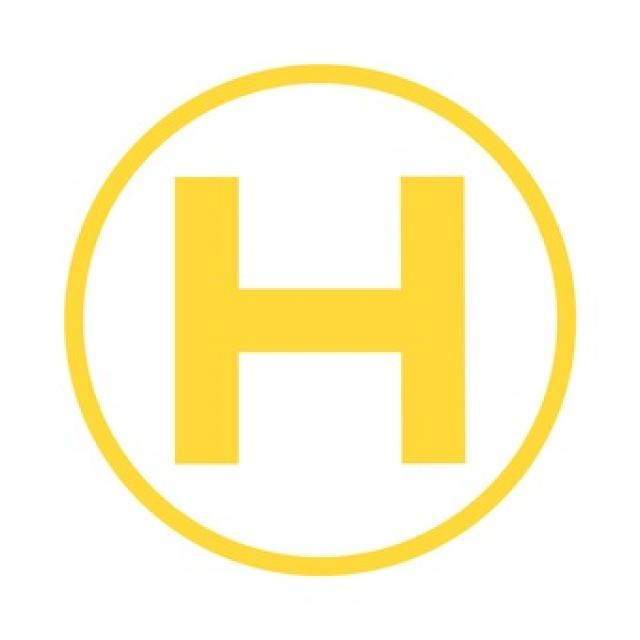helipad: (52, 52, 580, 582)
